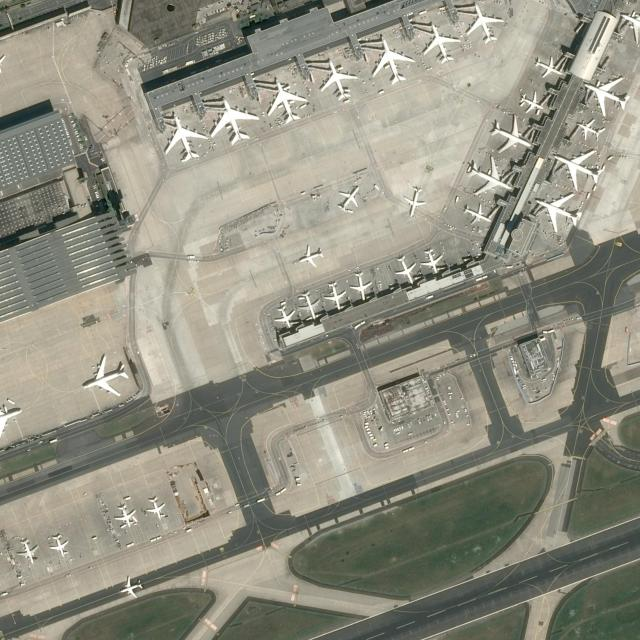1: (1, 399, 23, 436), (620, 7, 640, 44)
aircraft: (549, 147, 606, 191), (208, 93, 256, 145), (154, 114, 204, 162), (264, 74, 309, 126), (369, 34, 414, 86), (80, 353, 127, 398), (466, 157, 514, 201), (532, 190, 582, 232), (581, 74, 629, 116), (463, 2, 502, 48), (488, 114, 530, 156), (319, 56, 356, 103), (419, 22, 458, 64), (337, 180, 365, 213), (461, 202, 494, 228), (392, 250, 416, 284), (515, 90, 547, 115), (404, 182, 426, 218), (534, 54, 566, 78), (117, 575, 147, 600), (576, 118, 607, 142), (298, 290, 322, 320), (351, 270, 374, 301), (420, 245, 445, 273), (324, 286, 348, 313), (296, 245, 324, 268), (16, 536, 40, 562), (142, 496, 168, 519), (114, 504, 136, 530), (275, 302, 295, 329), (49, 534, 69, 559)
